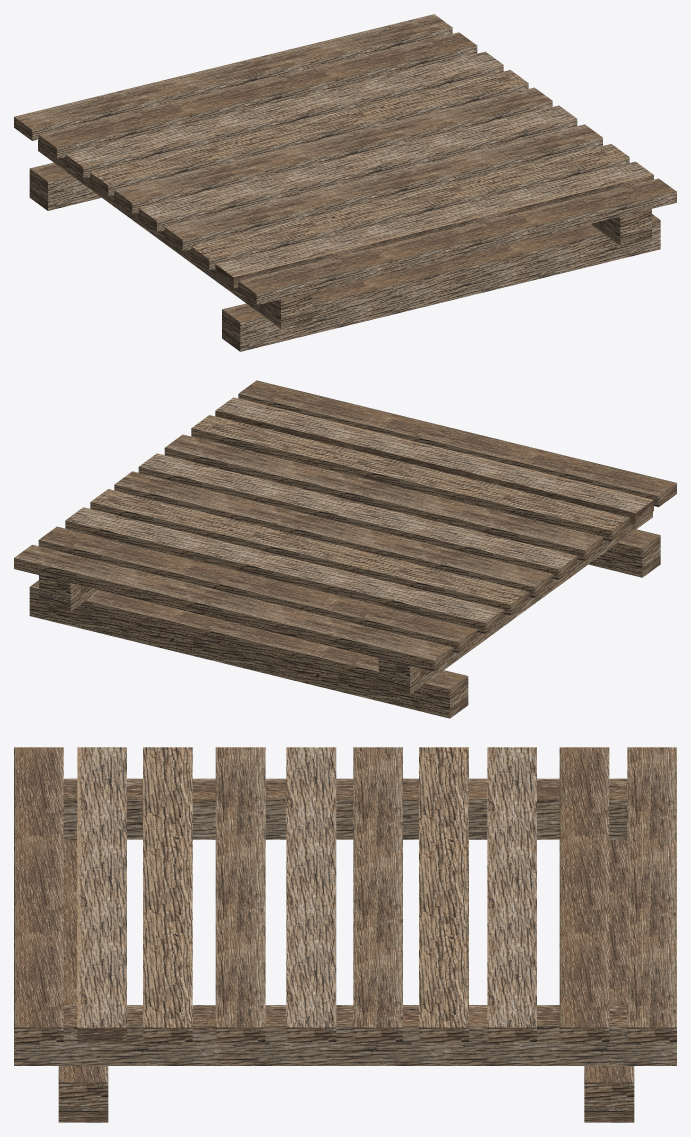
The model's file is Muelle.fbx.
The picture shows the model from 3 angles, top to bottom: view 1: azimuth 30°, elevation 25°; view 2: azimuth 150°, elevation 25°; view 3: azimuth 270°, elevation 25°; orthographic projection. The views are drawn at different scales.
Parts seen in each view (by area): view 1: Viga.003; view 2: Viga.003; view 3: Viga.003.
Part boxes in pixels (x1,y1,x2,y2): Viga.003: (14, 14, 676, 351); Viga.003: (14, 380, 676, 718); Viga.003: (14, 747, 676, 1122).
Bounding box in the file's own units: 400 × 63.21 × 400.
1 material, 1 textured.
